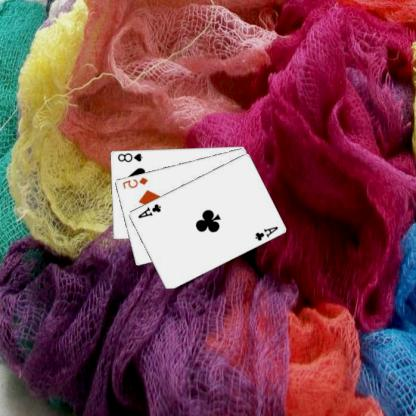5D: (122, 175, 150, 190)
8S: (117, 150, 145, 163)
AC: (137, 201, 164, 220), (254, 223, 281, 242)
